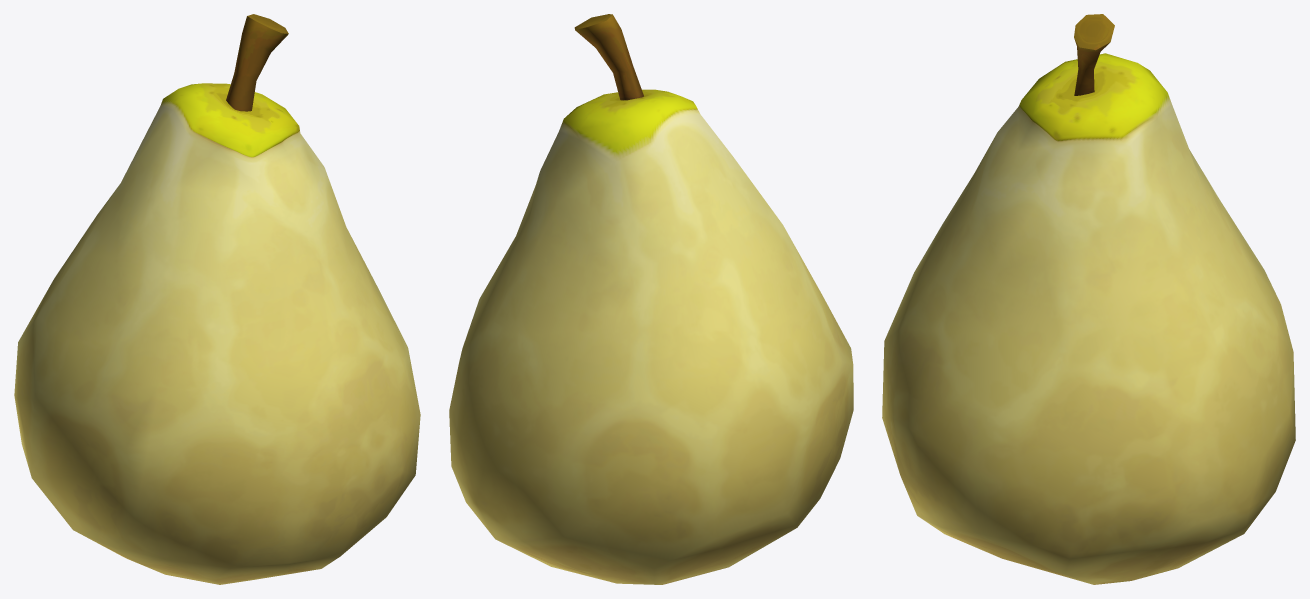
The model's file is SM_PearGreenPeeled.fbx.
3 renders of one model, left to right at view 1: azimuth 30°, elevation 25°; view 2: azimuth 150°, elevation 25°; view 3: azimuth 270°, elevation 25°, orthographic. The views are drawn at different scales.
Visible parts, largest first — view 1: SM_PearGreenPeeled; view 2: SM_PearGreenPeeled; view 3: SM_PearGreenPeeled.
Boxes of the visible parts, x1=… form: SM_PearGreenPeeled: x1=14, y1=14, x2=420, y2=584; SM_PearGreenPeeled: x1=449, y1=14, x2=853, y2=584; SM_PearGreenPeeled: x1=882, y1=14, x2=1295, y2=584.
Size of the model in its own units: 12.56 by 18.72 by 12.59.
